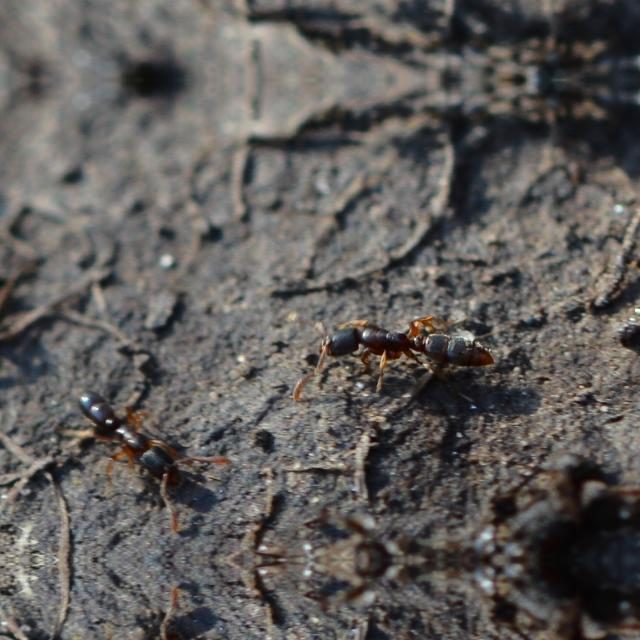Ponera: (28, 357, 244, 528), (296, 269, 498, 403), (28, 590, 244, 640)
